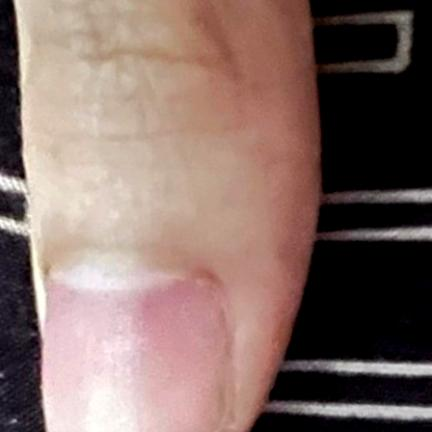Nail: (43, 274, 229, 431)
